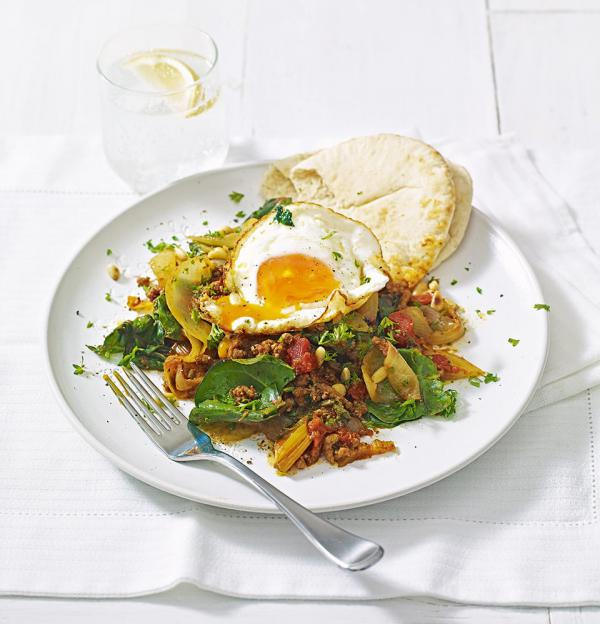chopped lettuce: (350, 354, 461, 424), (189, 359, 300, 422), (86, 306, 187, 374)
fried egg: (196, 204, 395, 336)
